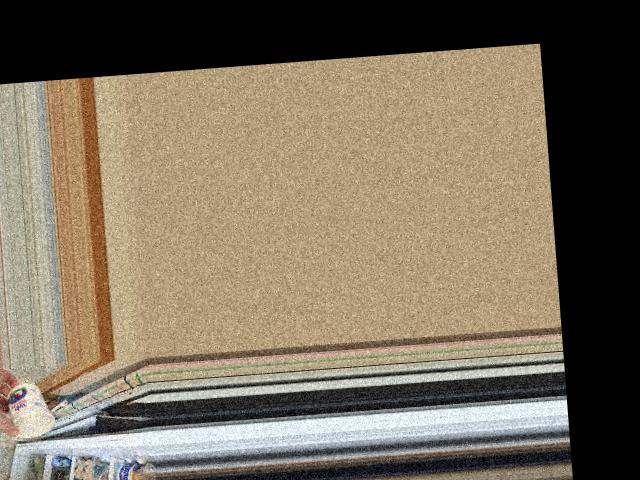cotage: (1, 381, 52, 438)
